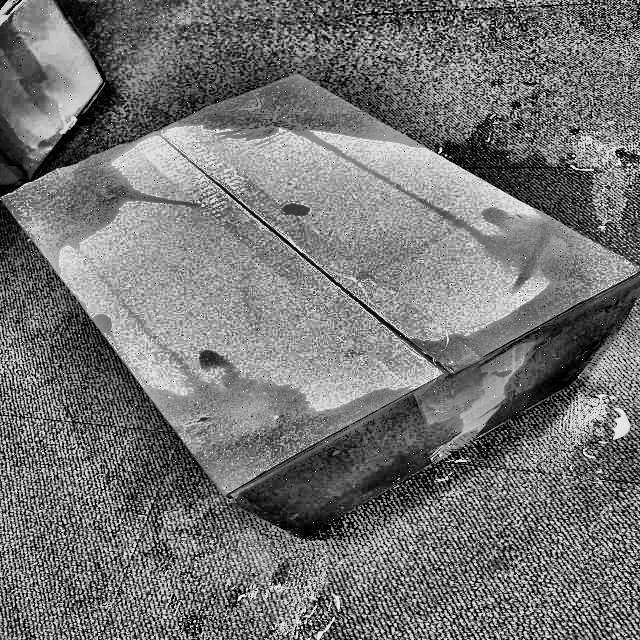box: (0, 68, 640, 556)
wet: (163, 362, 453, 519), (479, 228, 627, 426), (169, 77, 417, 159), (0, 150, 148, 252)
